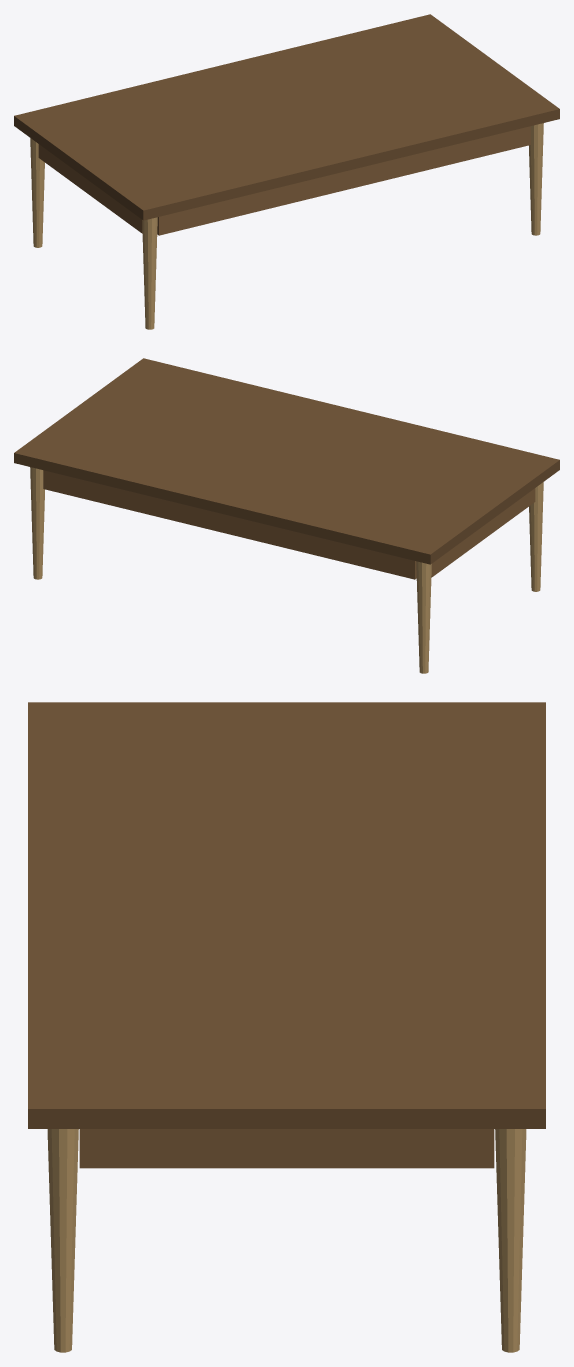
The model's file is ATL-COF-long.glb.
3 views of the same model, one above another, from view 1: azimuth 30°, elevation 25°; view 2: azimuth 150°, elevation 25°; view 3: azimuth 270°, elevation 25° (orthographic). The views are drawn at different scales.
Visible parts, largest first — view 1: top:pbr, apron-f:pbr, apron-l:pbr, leg-fl:pbr, leg-fr:pbr, leg-bl:pbr; view 2: top:pbr, apron-b:pbr, apron-l:pbr, leg-bl:pbr, leg-br:pbr, leg-fl:pbr; view 3: top:pbr, apron-r:pbr, leg-fr:pbr, leg-br:pbr.
Boxes of the visible parts, box(x1,y1,x2,y2) form: top:pbr: box(14, 14, 559, 220); apron-f:pbr: box(157, 126, 530, 235); apron-l:pbr: box(38, 144, 142, 233); leg-fl:pbr: box(142, 217, 157, 329); leg-fr:pbr: box(529, 123, 543, 235); leg-bl:pbr: box(30, 138, 44, 247); top:pbr: box(14, 358, 559, 564); apron-b:pbr: box(43, 470, 416, 579); apron-l:pbr: box(431, 488, 535, 577); leg-bl:pbr: box(416, 561, 431, 673); leg-br:pbr: box(30, 467, 44, 579); leg-fl:pbr: box(529, 482, 543, 591); top:pbr: box(28, 702, 545, 1128); apron-r:pbr: box(79, 1129, 494, 1168); leg-fr:pbr: box(47, 1129, 78, 1352); leg-br:pbr: box(495, 1129, 526, 1352).
Bounding box in the file's own units: 1.3 × 0.38 × 0.7.
